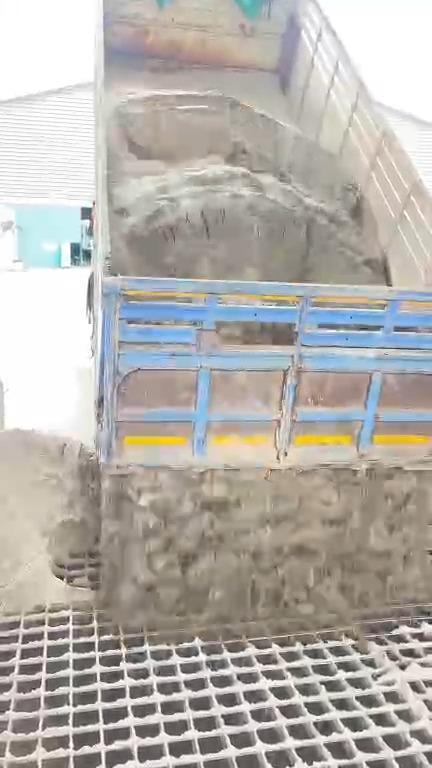sand: (0, 430, 431, 625), (98, 62, 384, 283)
